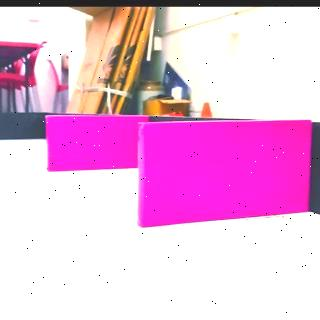xparking: (140, 122, 309, 222), (46, 114, 136, 168)
